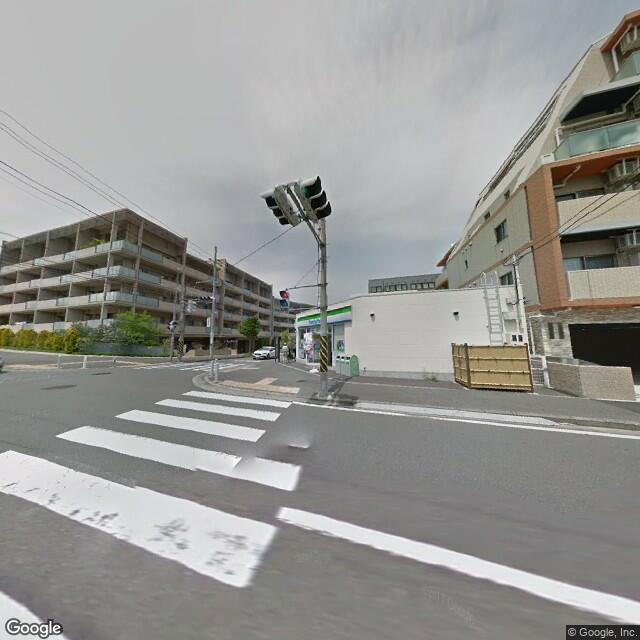family_mart: (292, 302, 356, 333)
